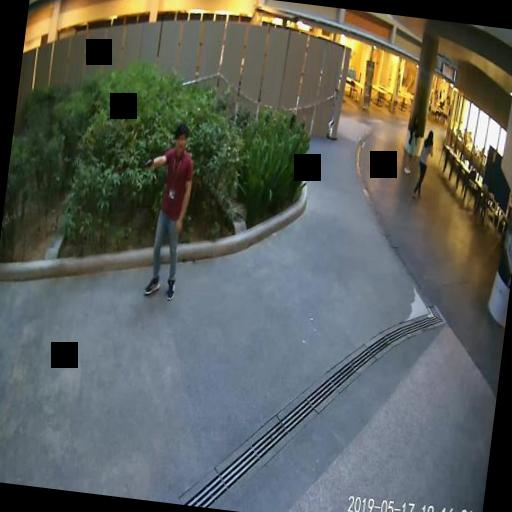Handgun: (140, 154, 152, 170)
